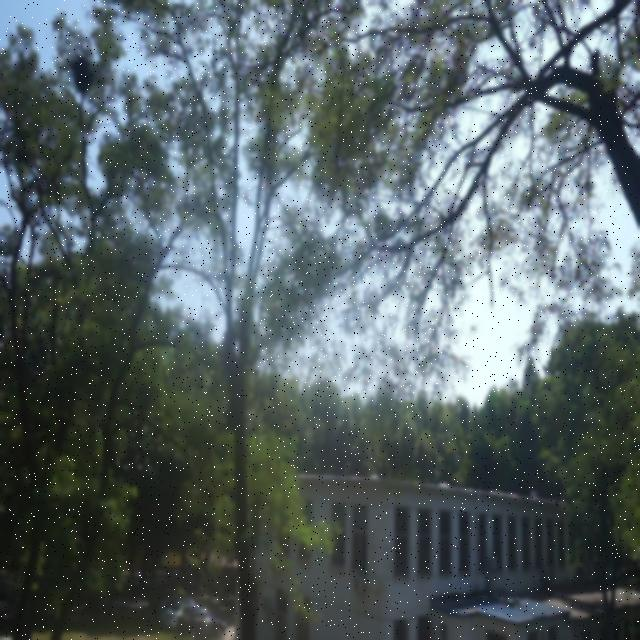UAV: (503, 597, 521, 608)
